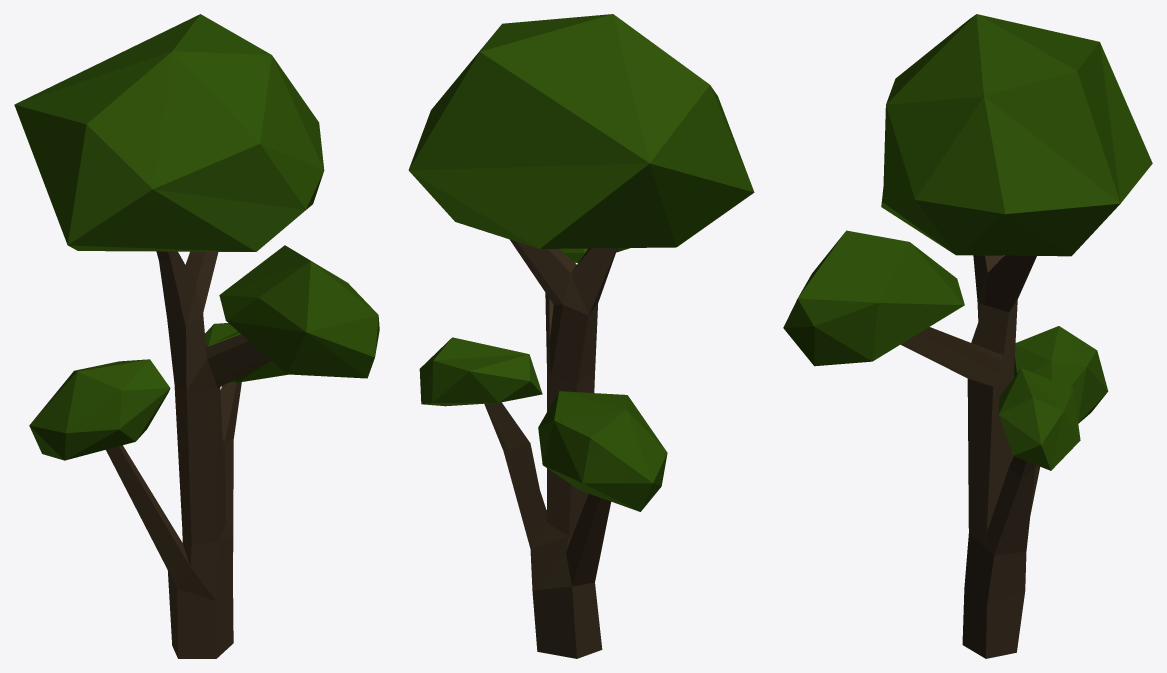
Rendered from Forest_C_Tree_13.fbx.
3 renders of one model, left to right at view 1: azimuth 30°, elevation 25°; view 2: azimuth 150°, elevation 25°; view 3: azimuth 270°, elevation 25°, orthographic. The views are drawn at different scales.
Visible parts, largest first — view 1: Forest_C_Tree_13; view 2: Forest_C_Tree_13; view 3: Forest_C_Tree_13.
Boxes of the visible parts, box(x1,y1,x2,y2) form: Forest_C_Tree_13: box(14, 14, 379, 658); Forest_C_Tree_13: box(408, 14, 754, 658); Forest_C_Tree_13: box(783, 14, 1152, 658).
Size of the model in its own units: 201 by 418 by 229.
